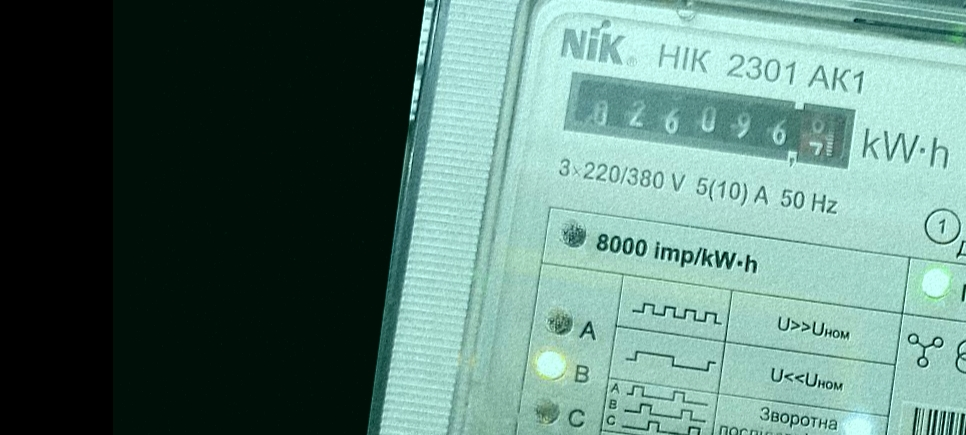0: (698, 102, 722, 140), (590, 96, 614, 130)
2: (626, 97, 652, 134)
6: (662, 103, 686, 141), (770, 115, 792, 150), (809, 110, 831, 139)
7: (807, 139, 828, 162)
9: (734, 110, 757, 144)
screen: (554, 62, 867, 183)
